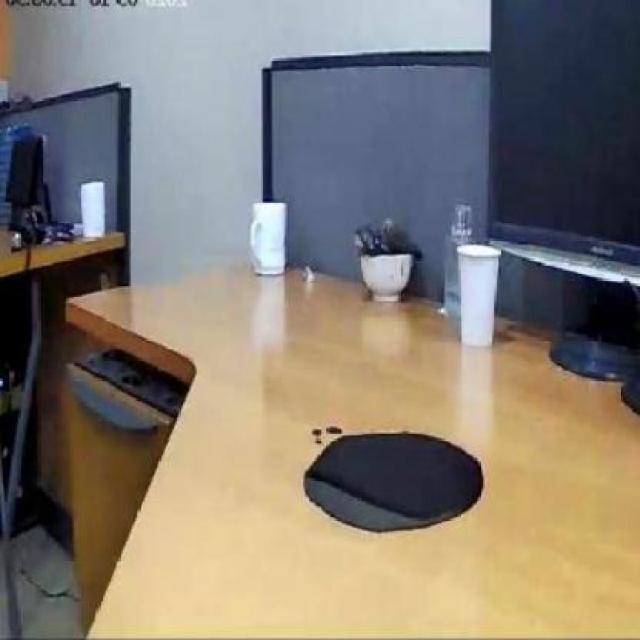spillage: (302, 426, 485, 535)
